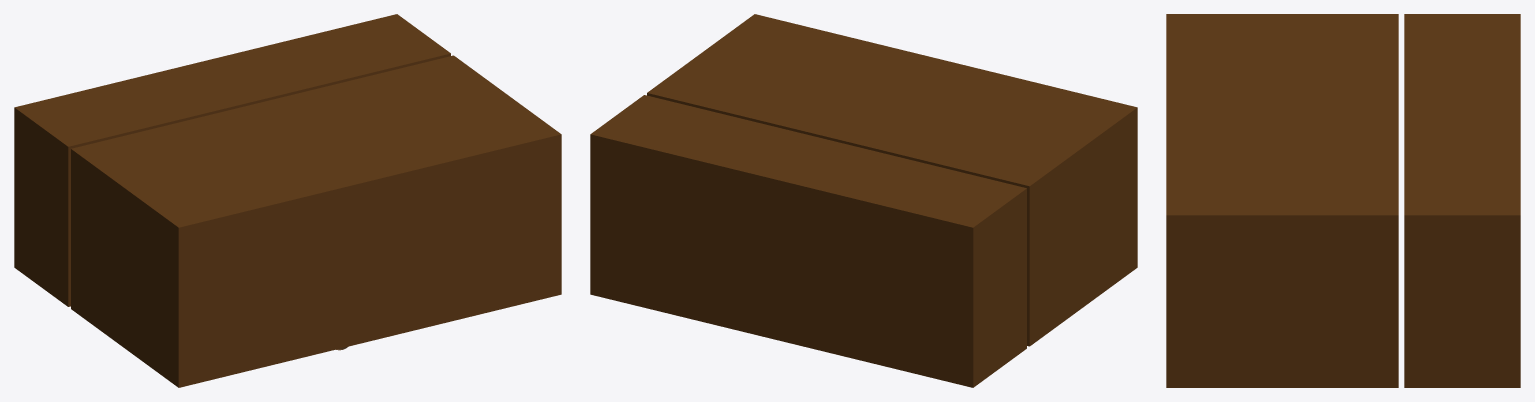
Rendered from tinker.obj.
The picture shows the model from 3 angles, left to right: view 1: azimuth 30°, elevation 25°; view 2: azimuth 150°, elevation 25°; view 3: azimuth 270°, elevation 25°; orthographic projection. The views are drawn at different scales.
Visible parts, largest first — view 1: group_0_6306067; view 2: group_0_6306067; view 3: group_0_6306067.
Boxes of the visible parts, <box> form: group_0_6306067: <box>14,14,561,387</box>; group_0_6306067: <box>590,14,1137,387</box>; group_0_6306067: <box>1166,14,1520,387</box>.
Size of the model in its own units: 50 by 23.1 by 37.19.
